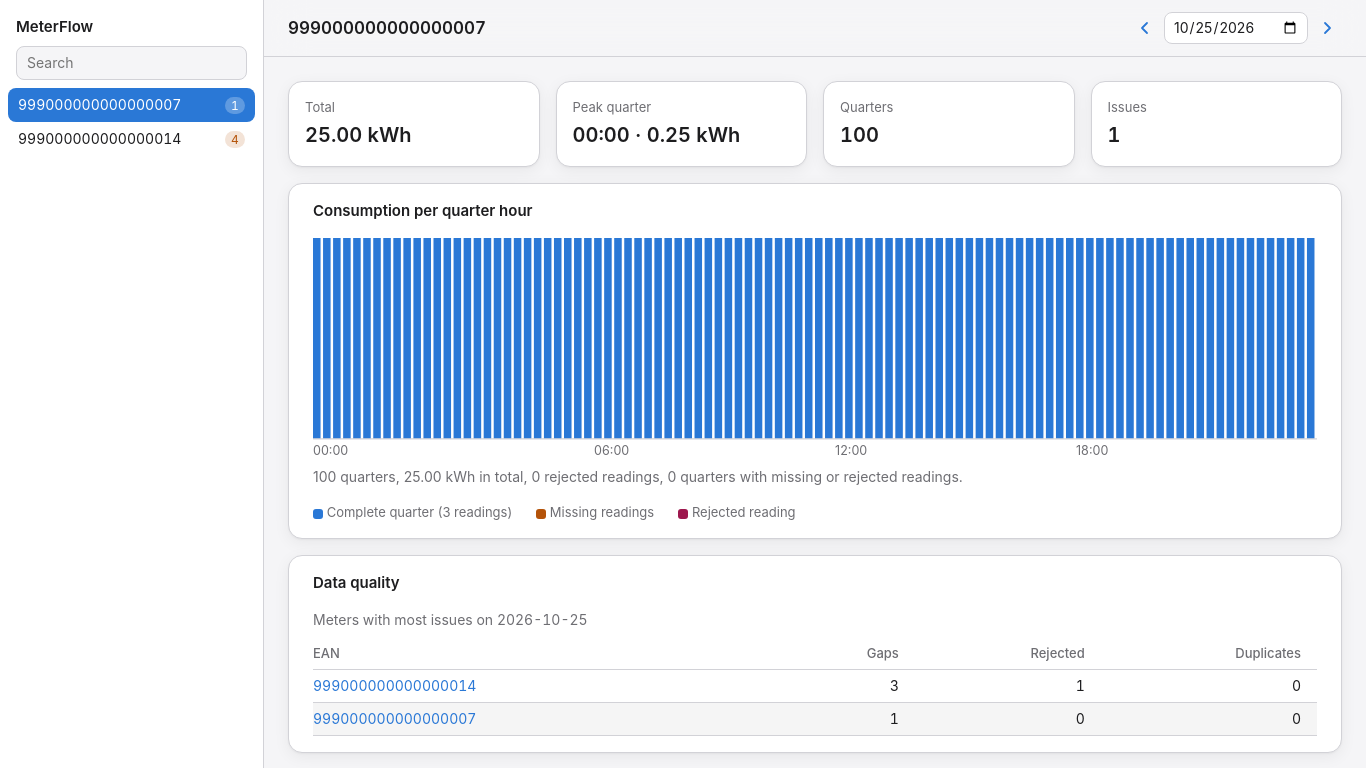
Test case: App › selects a meter from the quality table by click or Enter
Step 1. Click the cell "3" → (851, 686), box [788,669,915,703]
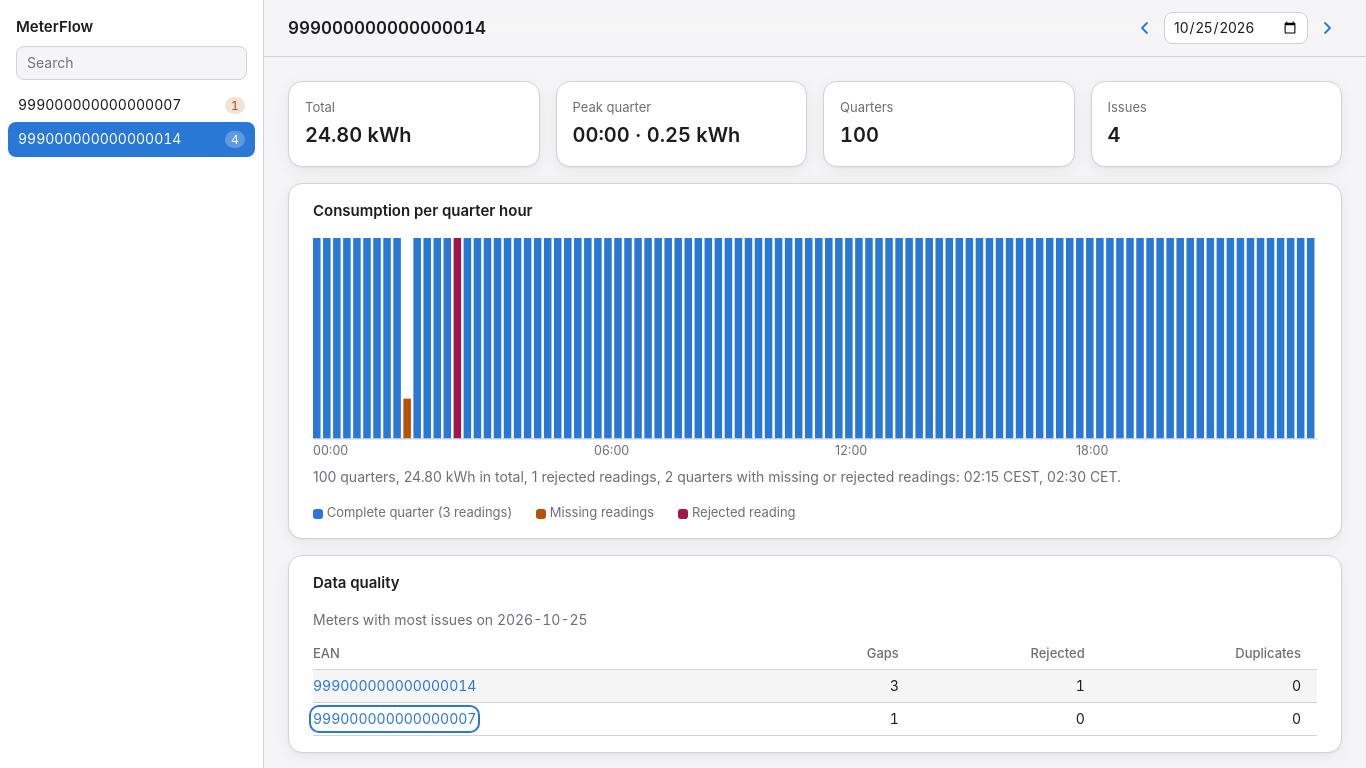
Result: the text "2 quarters with missing or rejected readings" is shown at [313,468,1121,485]
Result: the heading "999000000000000014" is shown at [288,16,486,40]
Result: the text "4" in the row of "00:00 · 0.25 kWh" is shown at [1108,123,1120,147]
Step 2. Press Enter
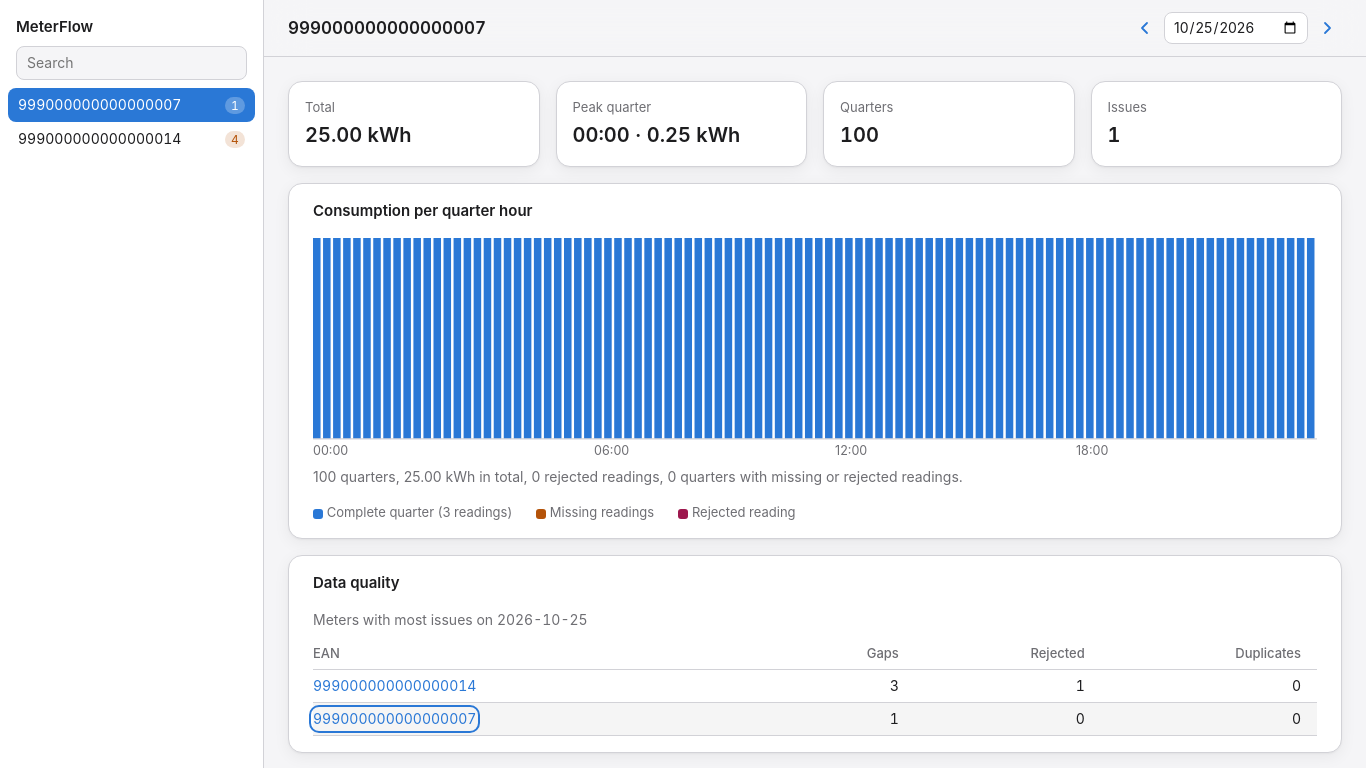
Result: the heading "999000000000000007" is shown at [288,16,486,40]
